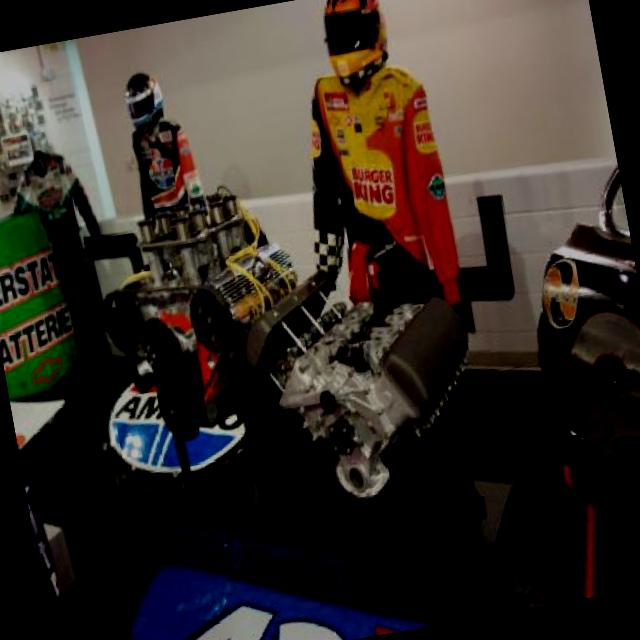Person: (271, 0, 481, 354), (118, 59, 211, 228)
